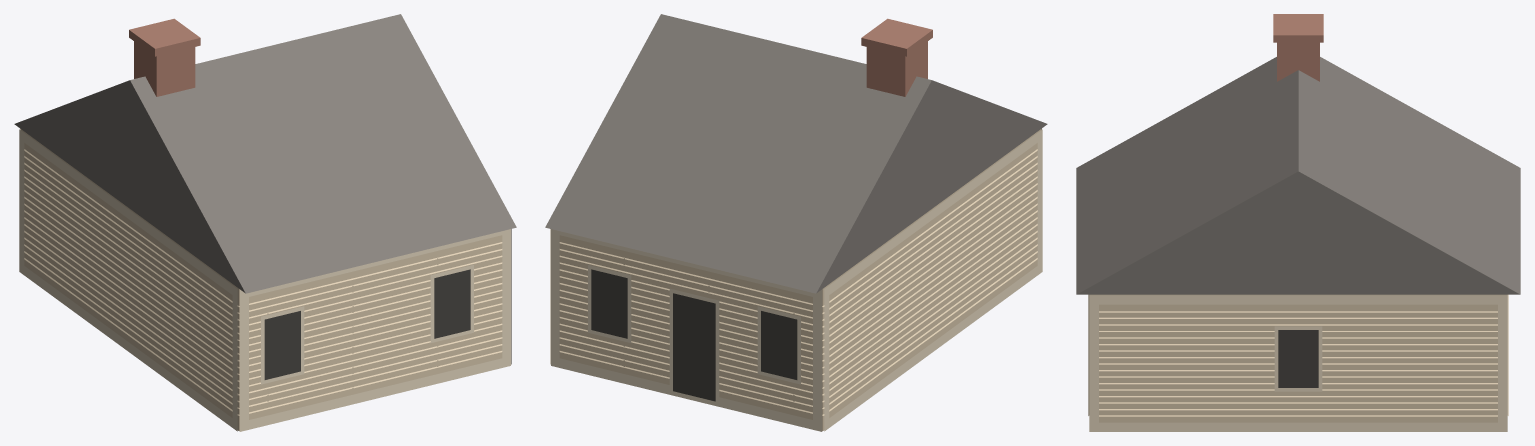
Rendered from recon_1835_blk_south_water_lasalle_d4_02__inferred_1835.glb.
3 renders of one model, left to right at view 1: azimuth 30°, elevation 25°; view 2: azimuth 150°, elevation 25°; view 3: azimuth 270°, elevation 25°, orthographic. The views are drawn at different scales.
Visible parts, largest first — view 1: recon_1835_blk_south_water_lasalle_d4_02__inferred_1835; view 2: recon_1835_blk_south_water_lasalle_d4_02__inferred_1835; view 3: recon_1835_blk_south_water_lasalle_d4_02__inferred_1835.
Part boxes in pixels (left/top/right/bottom): recon_1835_blk_south_water_lasalle_d4_02__inferred_1835: left=14, top=14, right=516, bottom=431; recon_1835_blk_south_water_lasalle_d4_02__inferred_1835: left=545, top=14, right=1047, bottom=431; recon_1835_blk_south_water_lasalle_d4_02__inferred_1835: left=1076, top=14, right=1520, bottom=431.
Size of the model in its own units: 5.92 by 6.37 by 8.66.
